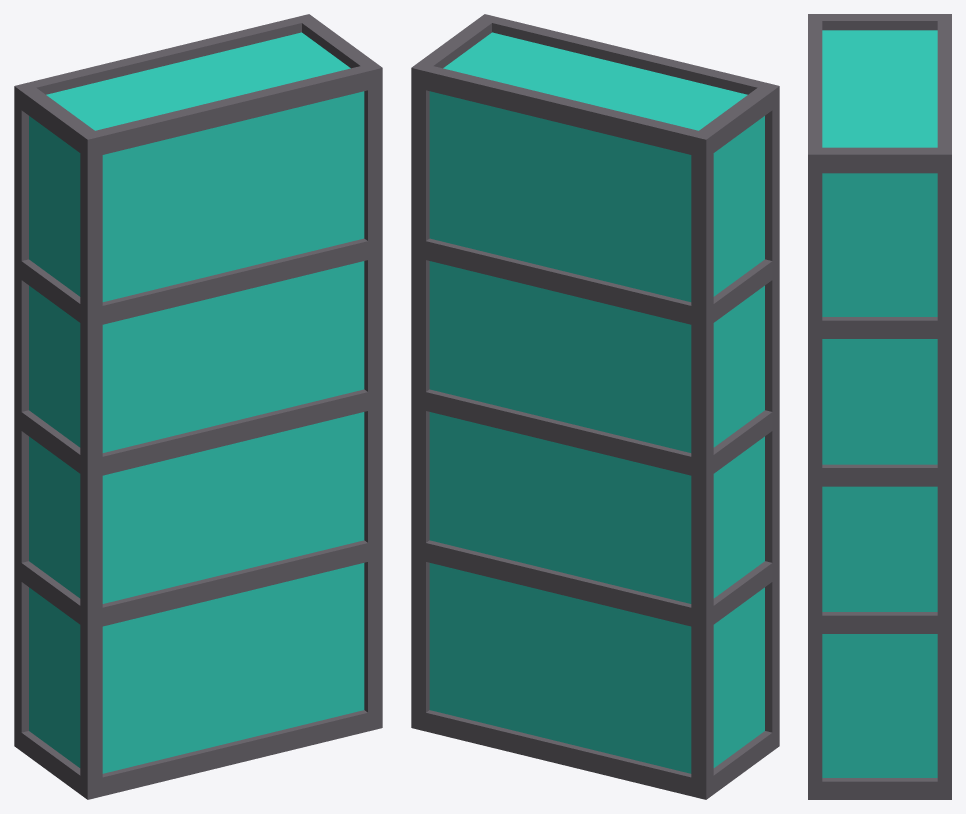
Rendered from Glass Cabinet.fbx.
The picture shows the model from 3 angles, left to right: view 1: azimuth 30°, elevation 25°; view 2: azimuth 150°, elevation 25°; view 3: azimuth 270°, elevation 25°; orthographic projection. The views are drawn at different scales.
Parts seen in each view (by area): view 1: Display_glass_cabinet; view 2: Display_glass_cabinet; view 3: Display_glass_cabinet.
Part boxes in pixels (box(x1,y1,x2,y2)): Display_glass_cabinet: box(14, 14, 382, 799); Display_glass_cabinet: box(411, 14, 779, 799); Display_glass_cabinet: box(808, 14, 951, 799).
Size of the model in its own units: 0.8228 by 1.76 by 0.3553.
2 materials, 1 textured.
